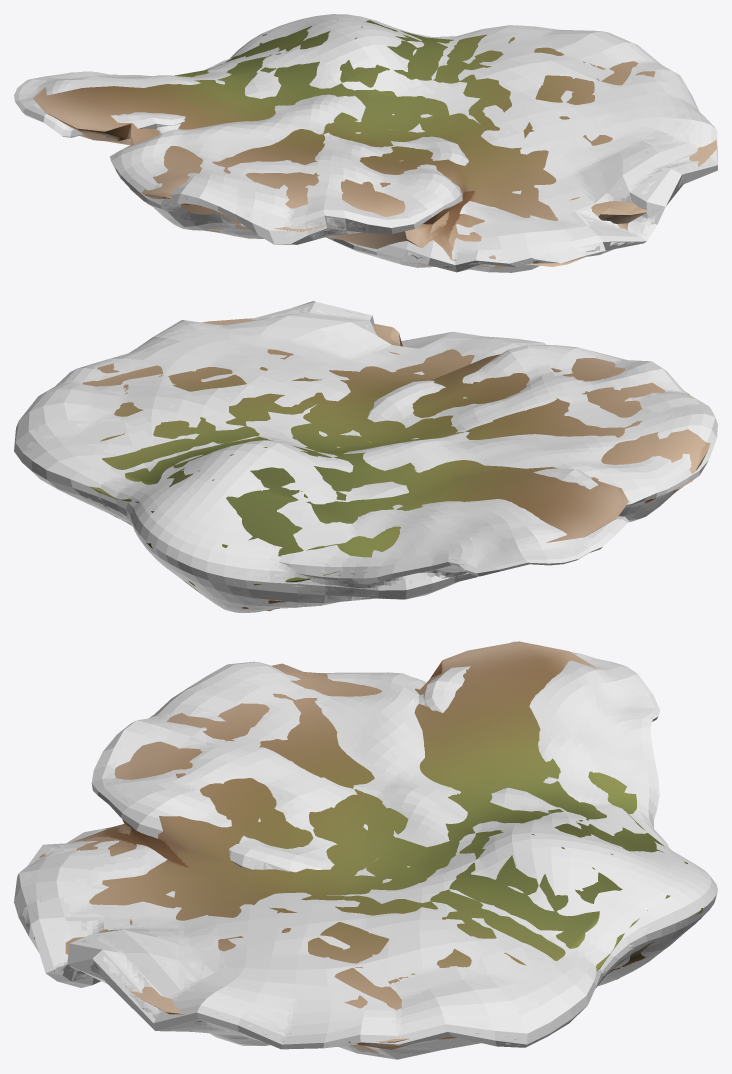
File: treeshroom1.2.fbx
3 views of the same model, one above another, from view 1: azimuth 30°, elevation 25°; view 2: azimuth 150°, elevation 25°; view 3: azimuth 270°, elevation 25° (orthographic). The views are drawn at different scales.
Parts seen in each view (by area): view 1: Cube.005, Cube.003, Cube.004, Cube, Cube.001, Cube.002; view 2: Cube.005, Cube, Cube.004, Cube.003, Cube.002, Cube.001; view 3: Cube.005, Cube, Cube.004, Cube.003, Cube.002, Cube.001.
Boxes of the visible parts, box(x1,y1,x2,y2) form: Cube.005: box(33, 19, 717, 268); Cube.003: box(23, 20, 717, 272); Cube.004: box(22, 14, 715, 271); Cube: box(207, 14, 717, 272); Cube.001: box(112, 96, 468, 244); Cube.002: box(14, 58, 231, 137); Cube.005: box(82, 318, 710, 611); Cube: box(14, 301, 546, 612); Cube.004: box(15, 306, 715, 612); Cube.003: box(56, 302, 717, 612); Cube.002: box(279, 469, 629, 583); Cube.001: box(344, 417, 715, 521); Cube.005: box(39, 641, 702, 1052); Cube: box(14, 787, 717, 1059); Cube.004: box(21, 653, 714, 1057); Cube.003: box(43, 661, 716, 1044); Cube.002: box(425, 641, 669, 848); Cube.001: box(91, 672, 460, 872).
Bounding box in the file's own units: 1110 × 288 × 984.
